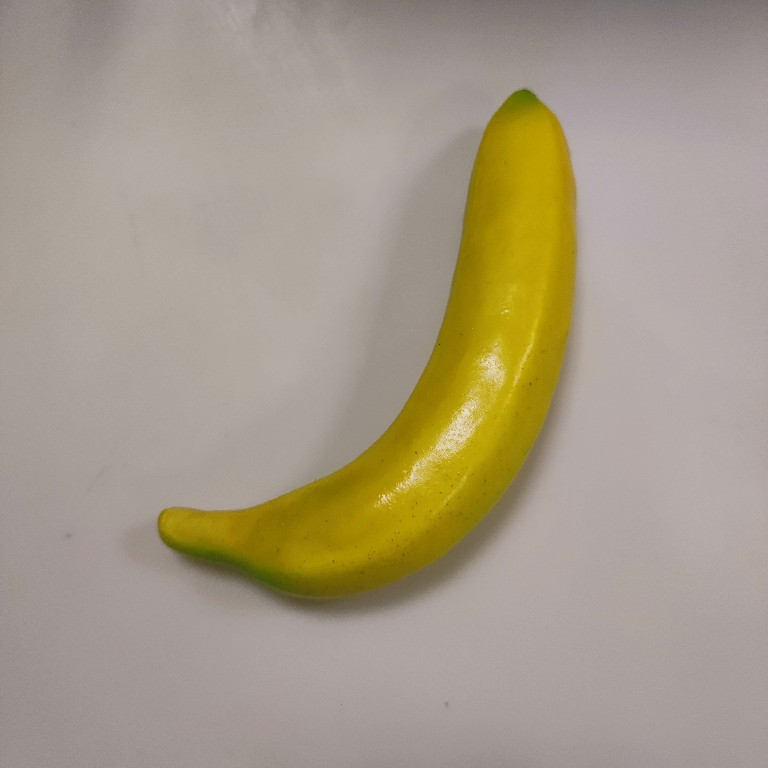fruit_banana: (147, 80, 585, 609)
